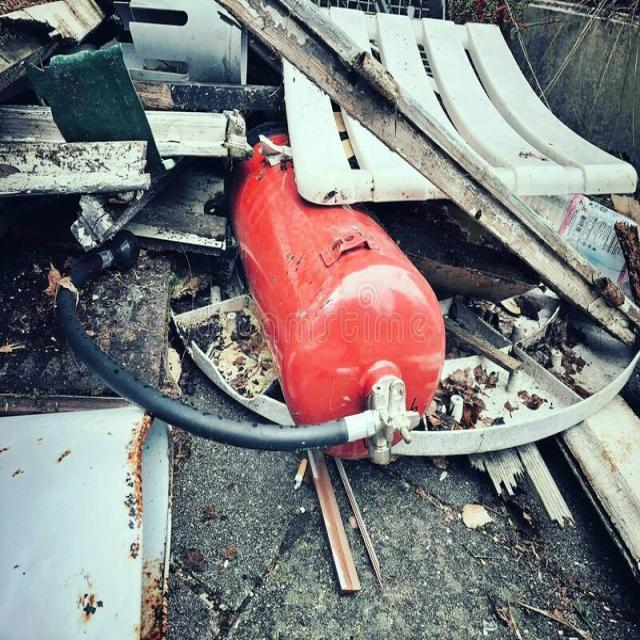fire_extinguisher: (46, 116, 449, 467)
